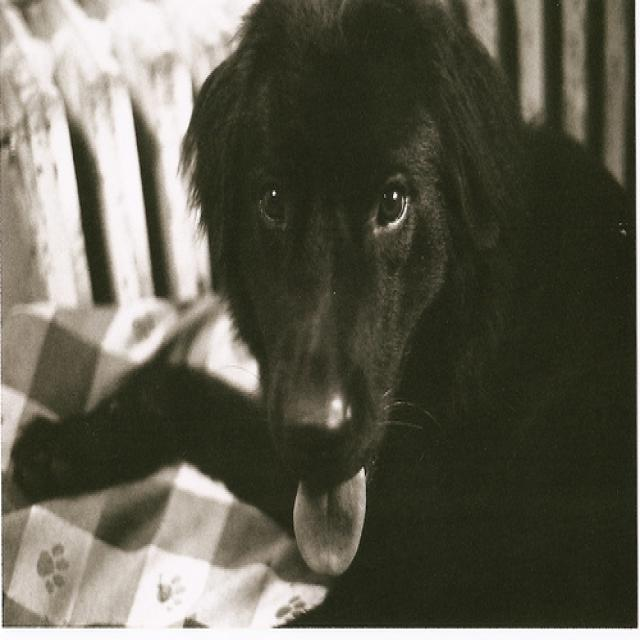dog-newfoundland: (9, 2, 637, 636)
